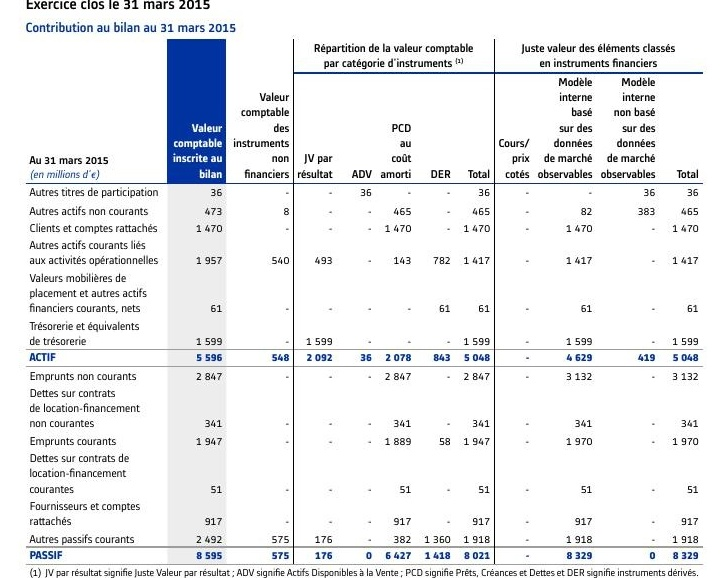table: (0, 0, 720, 578)
